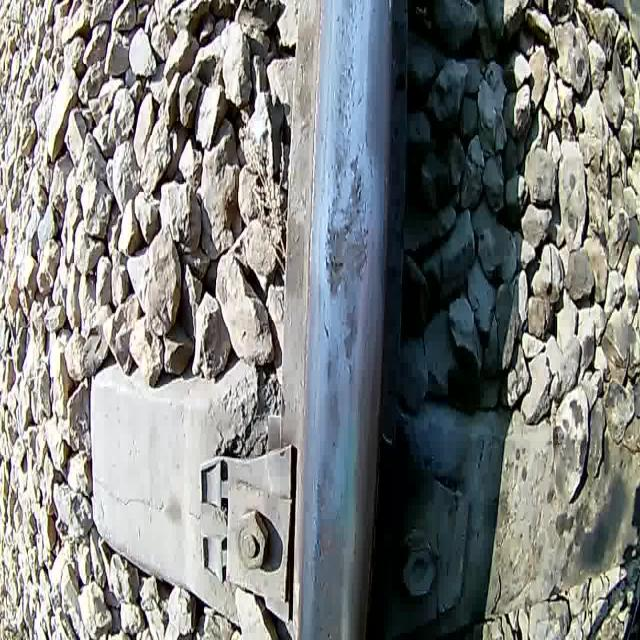Squats: (316, 142, 376, 390), (306, 335, 351, 640)
